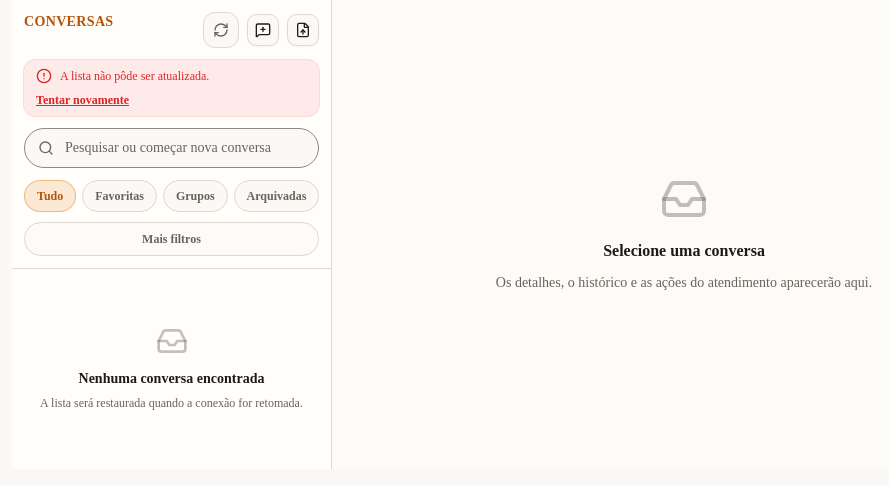
Scenario: ConversationWorkspace › renders empty and initial error states and retries the list request
The width and height of the screenshot is (889, 486).
Expected: the text "Nenhuma conversa encontrada" is shown, [78,369,264,389]
Expected: the text "A lista não pôde ser atualizada." is shown, [60,68,209,84]
Click the button "Tentar novamente" at (82, 100), box [36,92,129,108]
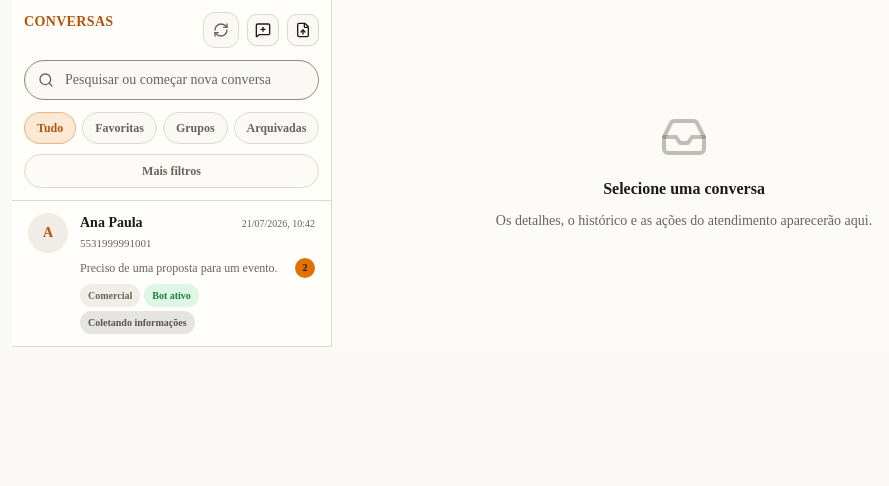
Now the text "Ana Paula" is shown, box [80,213,143,233]
